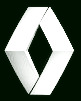Renault: (4, 3, 79, 98)
